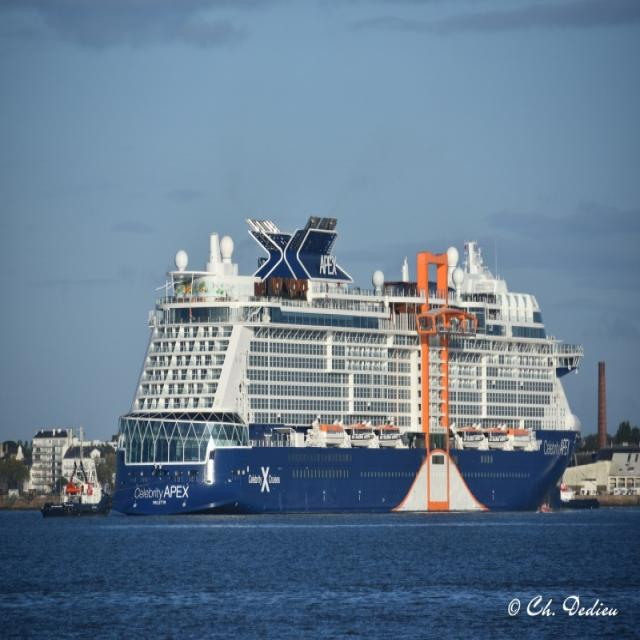cruises: (106, 197, 591, 516)
